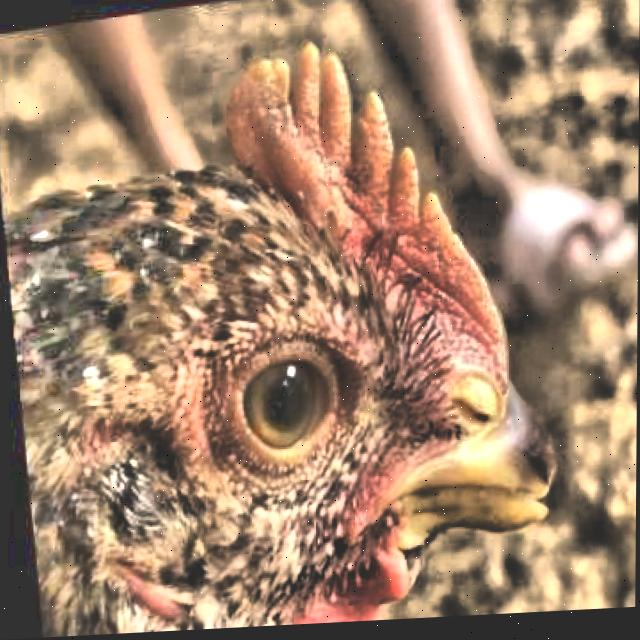Healthy: (205, 319, 380, 496)
